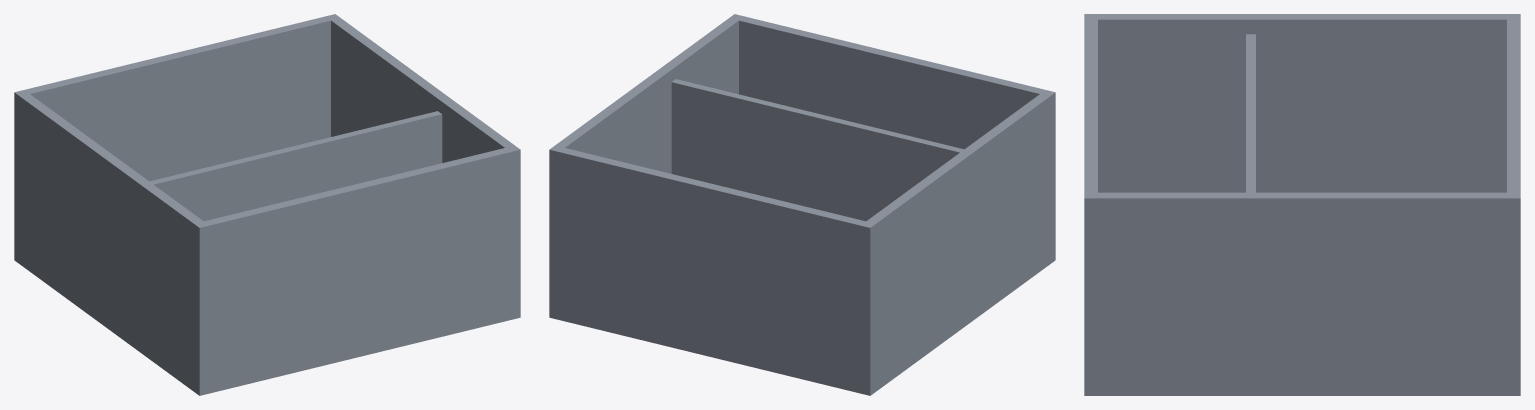
Rendered from cabinet_cabinet_two_shelves.obj.
3 renders of one model, left to right at view 1: azimuth 30°, elevation 25°; view 2: azimuth 150°, elevation 25°; view 3: azimuth 270°, elevation 25°, orthographic. The views are drawn at different scales.
Visible parts, largest first — view 1: Cube.474; view 2: Cube.474; view 3: Cube.474.
Part boxes in pixels (box(x1,y1,x2,y2)): Cube.474: box(14, 14, 520, 395); Cube.474: box(549, 14, 1055, 395); Cube.474: box(1084, 14, 1520, 395).
Bounding box in the file's own units: 0.6202 × 0.3101 × 0.6202.
1 material, 1 textured.
